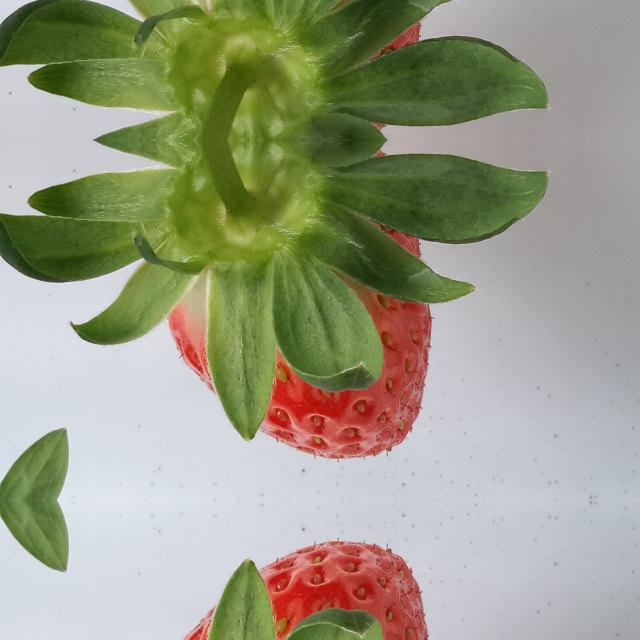Health_100: (166, 214, 434, 462), (166, 538, 433, 640), (166, 0, 433, 65)
